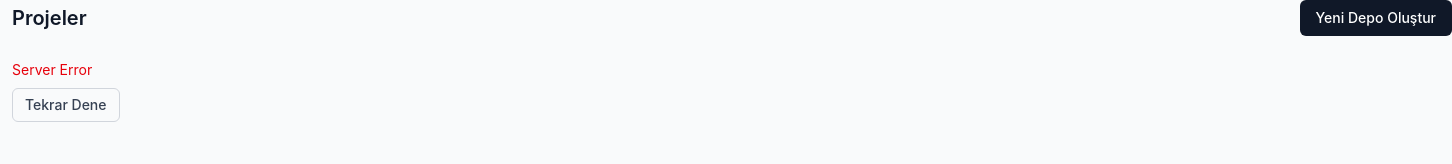
ProjectListPage › shows an error and a retry action when the list fails to load
This screenshot has width=1452, height=164.
Expected: the text "Server Error" is shown, [12,61,92,78]
Click the button "Tekrar Dene" at (66, 105), box [12,88,120,122]
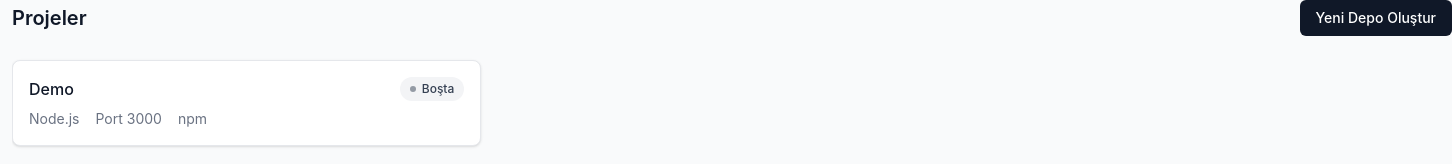
Expected: the heading "Demo" is shown, [29,77,74,101]
Expected: the text "Server Error" is gone
